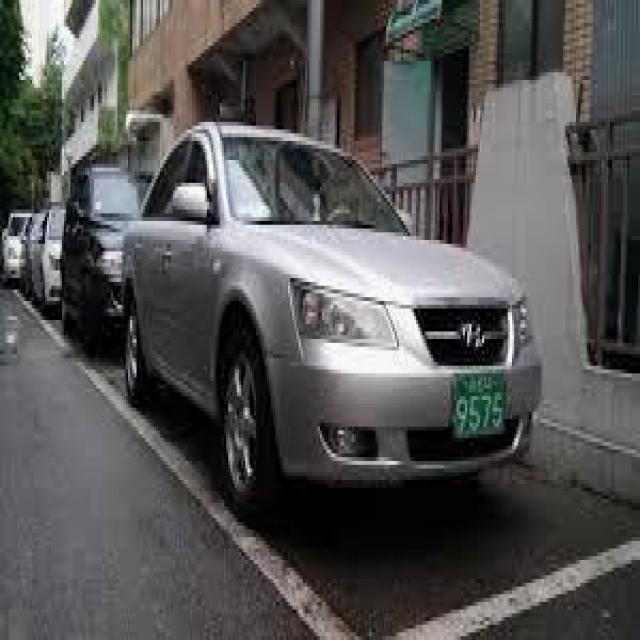car: (116, 115, 547, 529)
illegal_plate: (445, 362, 515, 451)
